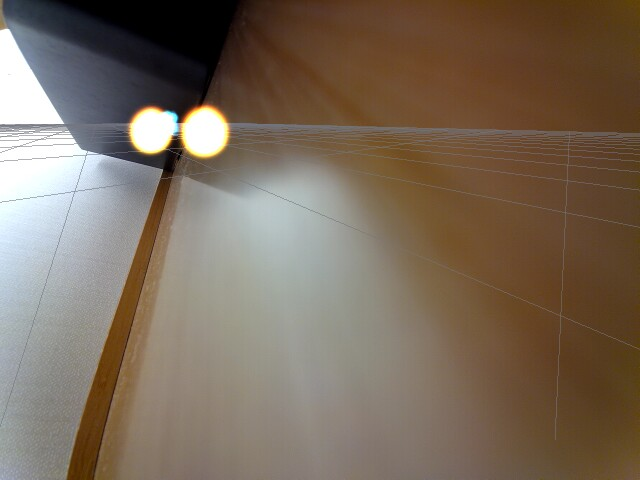firebig: (180, 105, 236, 159)
